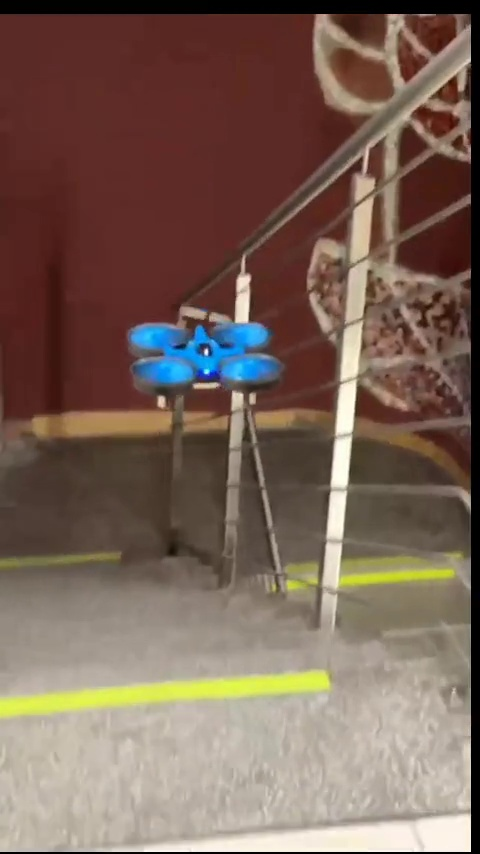drone: (127, 322, 292, 401)
